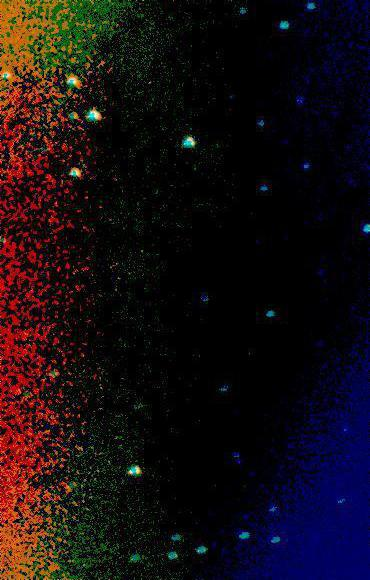star: (2, 373, 32, 403)
